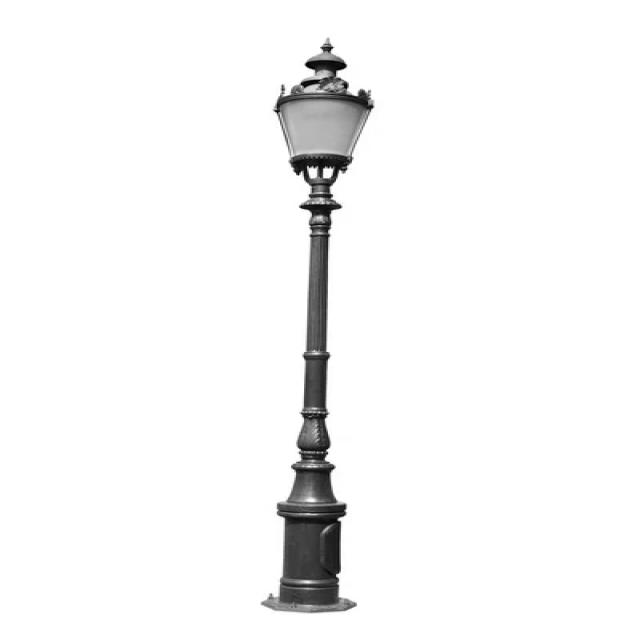Pole: (262, 40, 374, 613)
